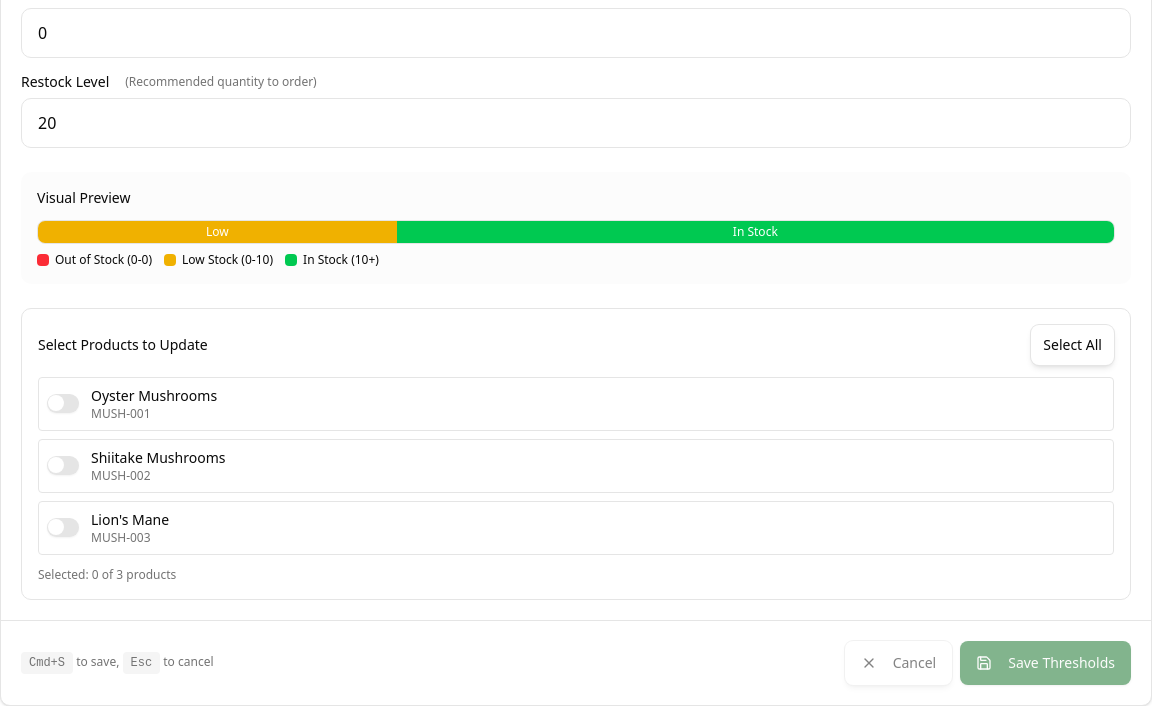
Test: ThresholdSettings Component › Bulk Mode › should toggle product selection
The image size is (1152, 706).
(page scrolled)
Click the switch next to "Oyster Mushrooms" at (63, 404), box [47, 394, 79, 413]
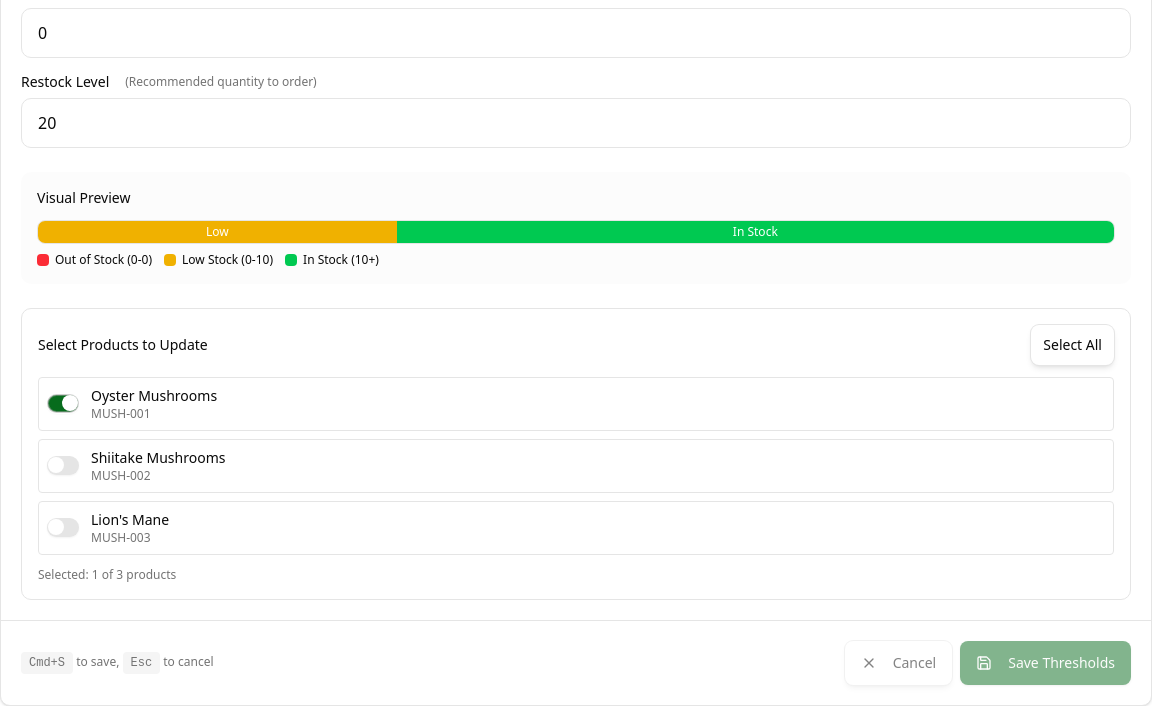
expect the text "Selected: 1 of 3 products" is shown: met, box [38, 566, 176, 582]
